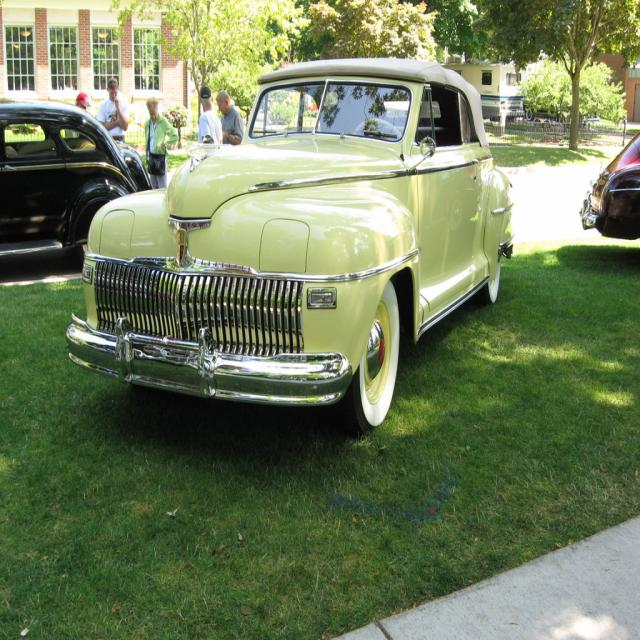car: (70, 70, 510, 434)
